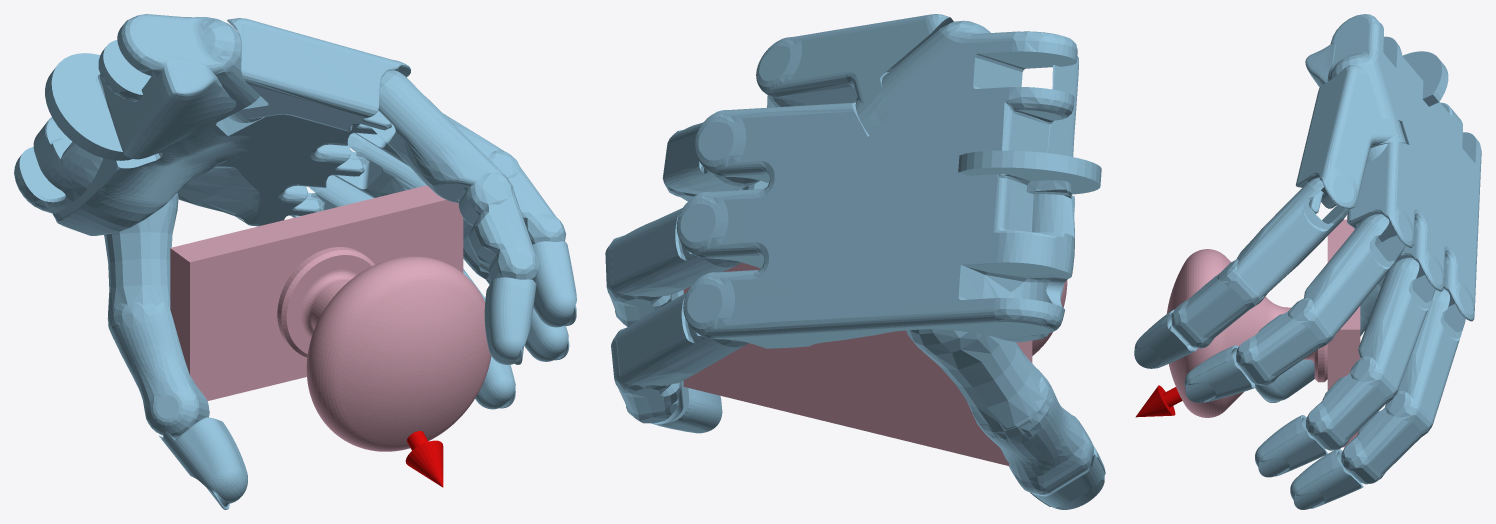
The picture shows the model from 3 angles, left to right: view 1: azimuth 30°, elevation 25°; view 2: azimuth 150°, elevation 25°; view 3: azimuth 270°, elevation 25°; orthographic projection. The views are drawn at different scales.
Visible parts, largest first — view 1: world, door_knob.stl; view 2: world, door_knob.stl; view 3: world, door_knob.stl.
Part boxes in pixels (x1,y1,x2,y2): world: (14,14,576,509); door_knob.stl: (170,185,491,451); world: (605,14,1105,509); door_knob.stl: (683,262,1067,465); world: (1134,14,1481,509); door_knob.stl: (1166,219,1360,447).
Size of the model in its own units: 0.1635 by 0.1584 by 0.1336.
